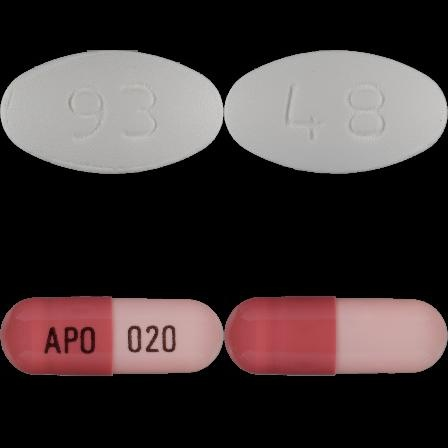48433-326: (0, 0, 224, 224)
